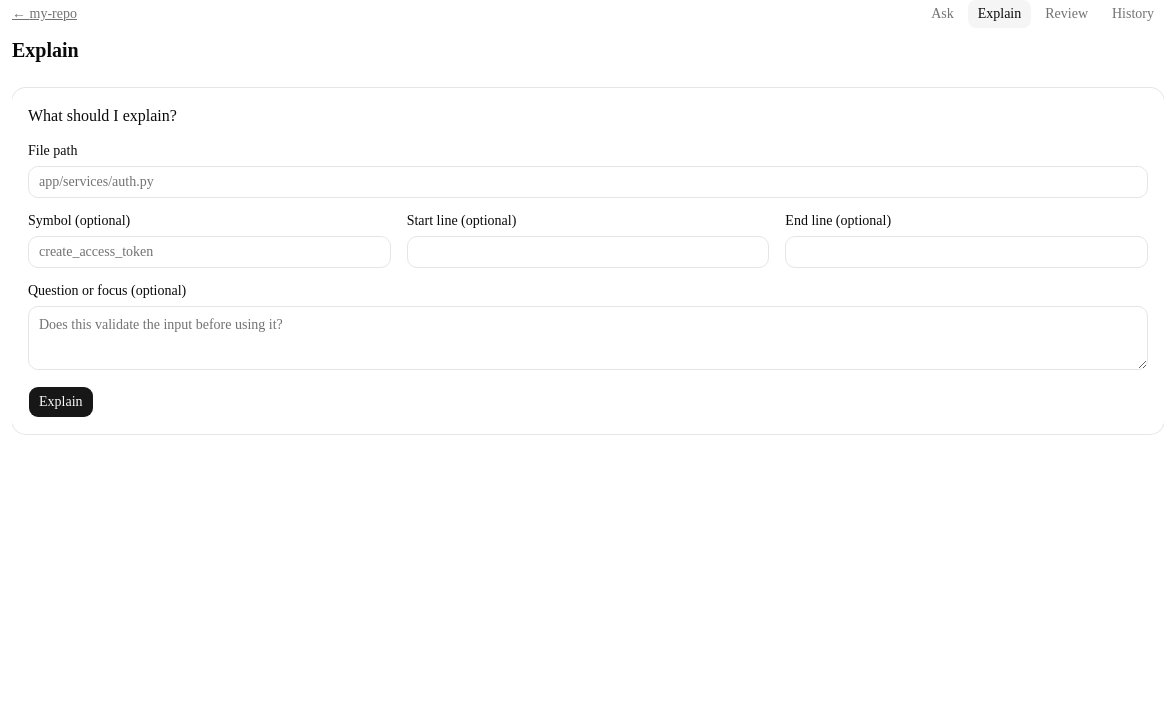
Scenario: ExplainPage › submits a file-path-only target and renders the explanation with evidence
In the field labelled "File path": (588, 182) [28,166,1148,198], type "app/core/security.py"
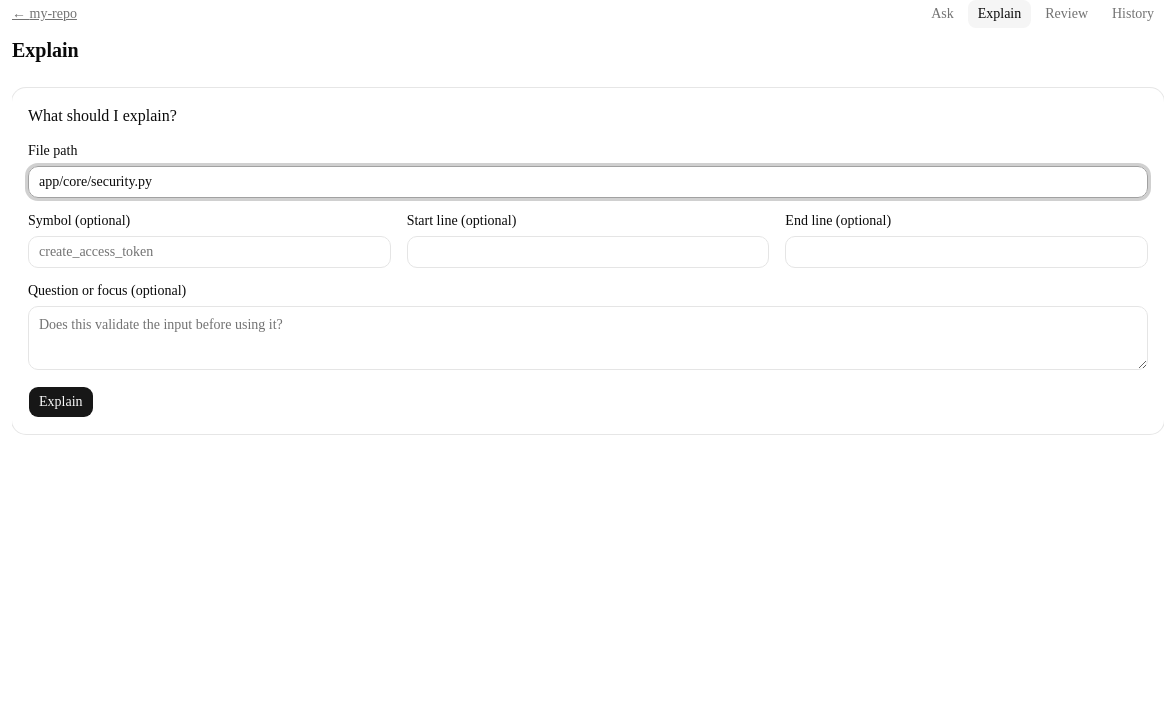
Click the button "Explain": (61, 402) [28,386,94,418]
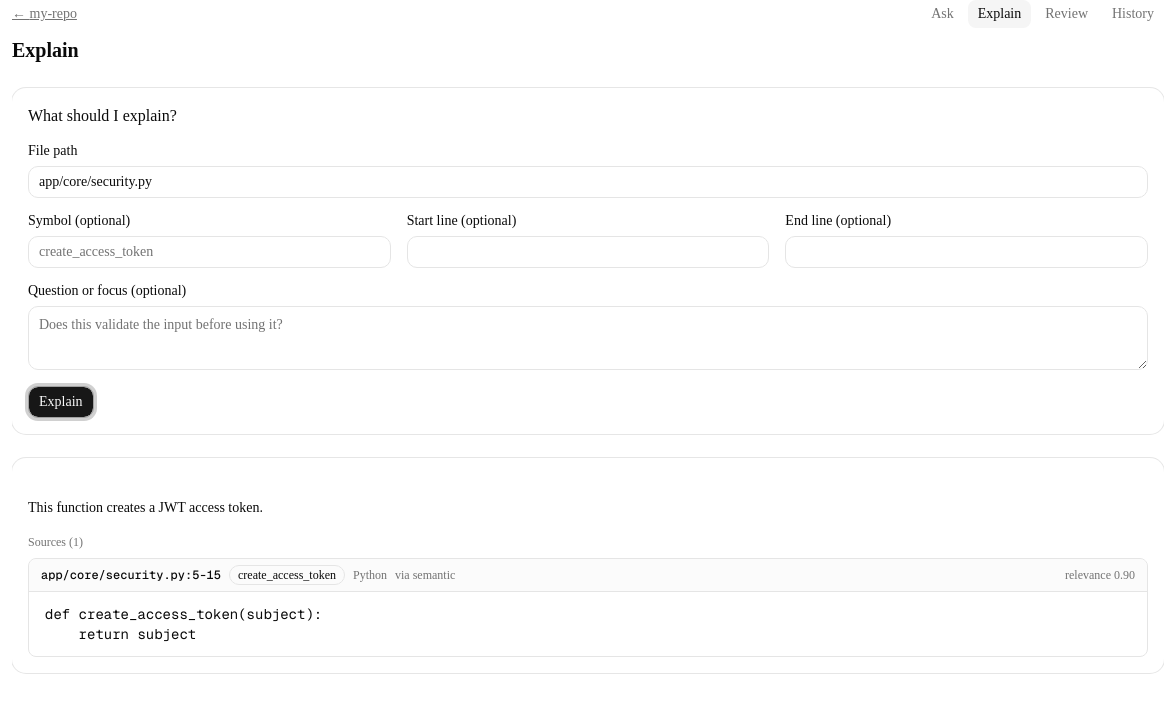
Result: the text "This function creates a JWT access token." is shown at [28,500,263,515]
Result: the text "app/core/security.py:5-15" is shown at [41,567,221,583]
Result: the text "create_access_token" is shown at [229,565,345,585]
